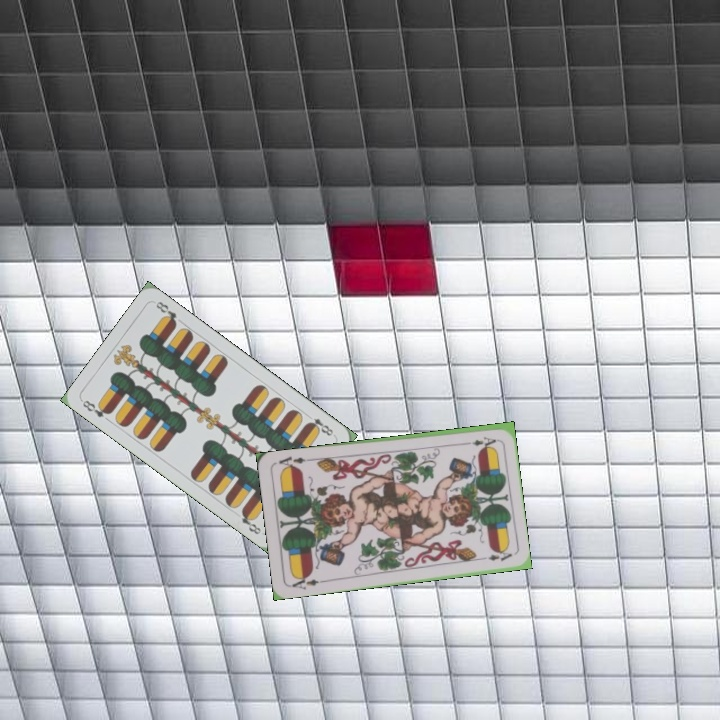E8: (303, 410, 337, 439), (78, 396, 114, 420)
EA: (287, 571, 327, 592), (459, 432, 499, 448)
